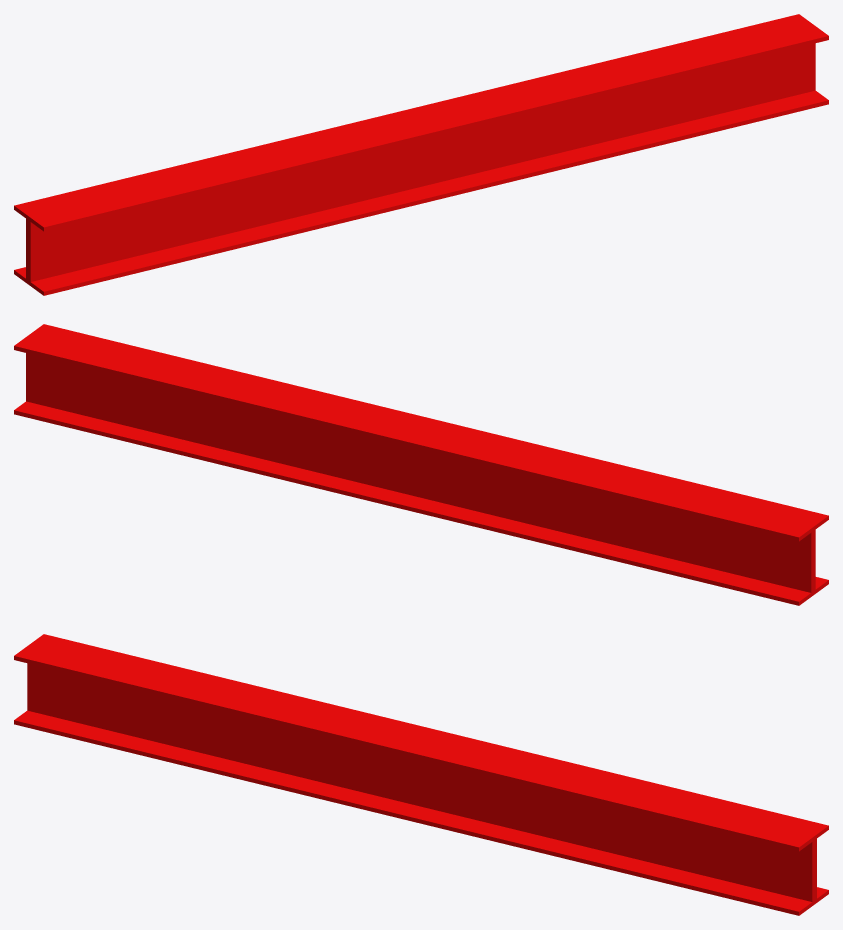
The model's file is Structure01_Beam03.fbx.
The picture shows the model from 3 angles, top to bottom: view 1: azimuth 30°, elevation 25°; view 2: azimuth 150°, elevation 25°; view 3: azimuth 330°, elevation 25°; orthographic projection.
Parts seen in each view (by area): view 1: Structure01_Beam03_LOD0; view 2: Structure01_Beam03_LOD0; view 3: Structure01_Beam03_LOD0.
Part boxes in pixels (x1,y1,x2,y2): Structure01_Beam03_LOD0: (14,14,828,295); Structure01_Beam03_LOD0: (14,324,828,605); Structure01_Beam03_LOD0: (14,634,828,915).
Size of what is drawn, in the model's own units: 300 by 25 by 19.77.
